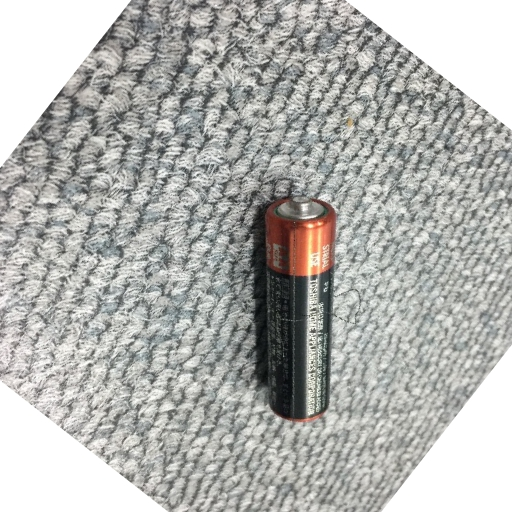Battery_0: (247, 180, 349, 435)
